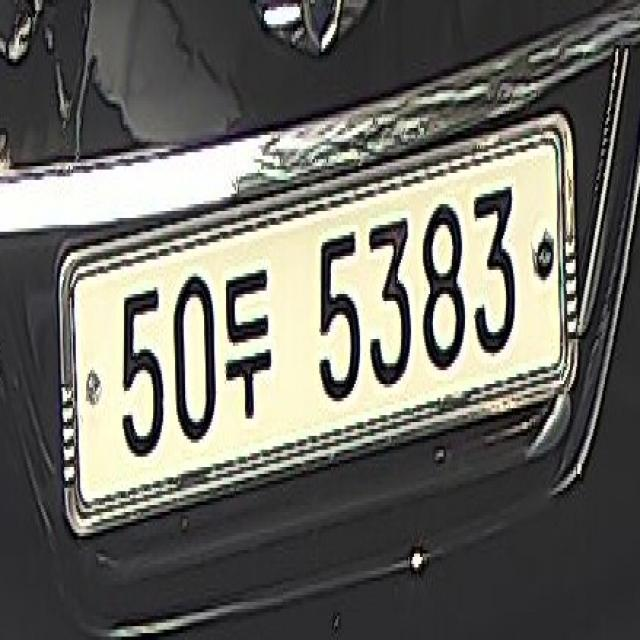0: (174, 272, 218, 452)
3: (472, 174, 520, 368), (367, 214, 414, 394)
5: (116, 285, 166, 462), (318, 226, 360, 406)
8: (422, 186, 467, 382)
du: (223, 267, 274, 433)
license_plate: (55, 83, 596, 577)
